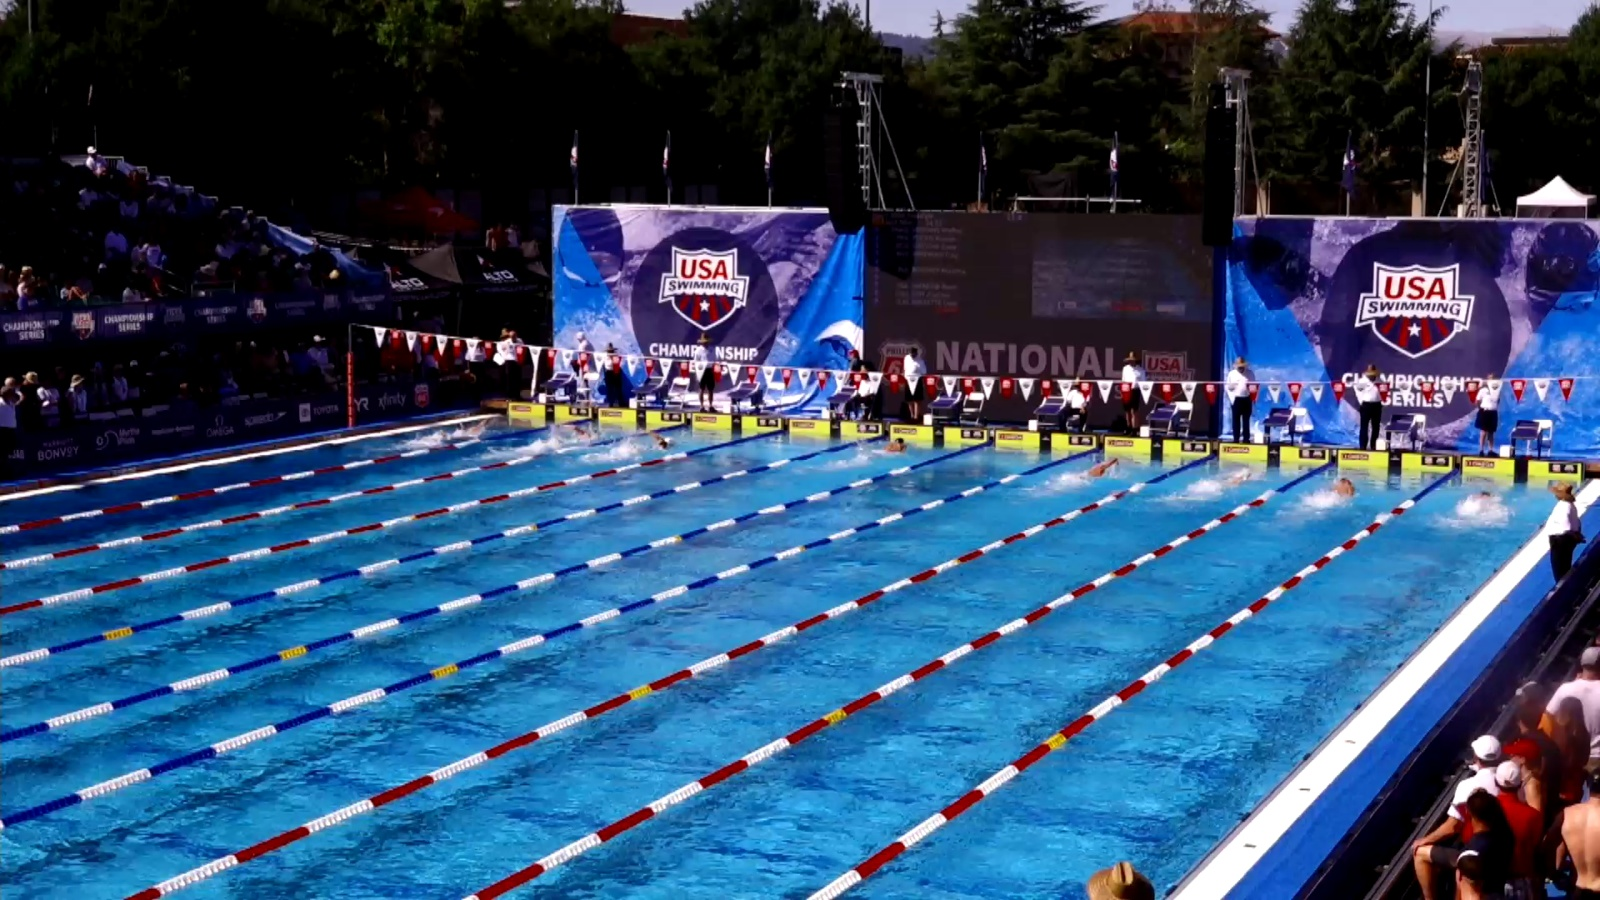swimmerw: (1296, 473, 1368, 523), (1042, 458, 1125, 498), (1185, 465, 1255, 505), (618, 427, 676, 458), (540, 427, 604, 452), (435, 416, 493, 442), (856, 437, 911, 463)
